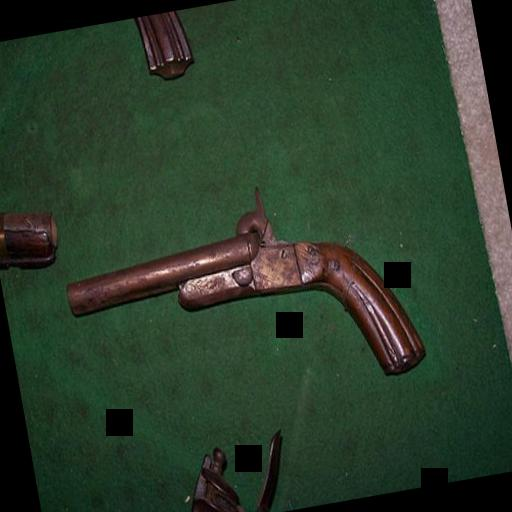Handgun: (48, 160, 426, 430)
